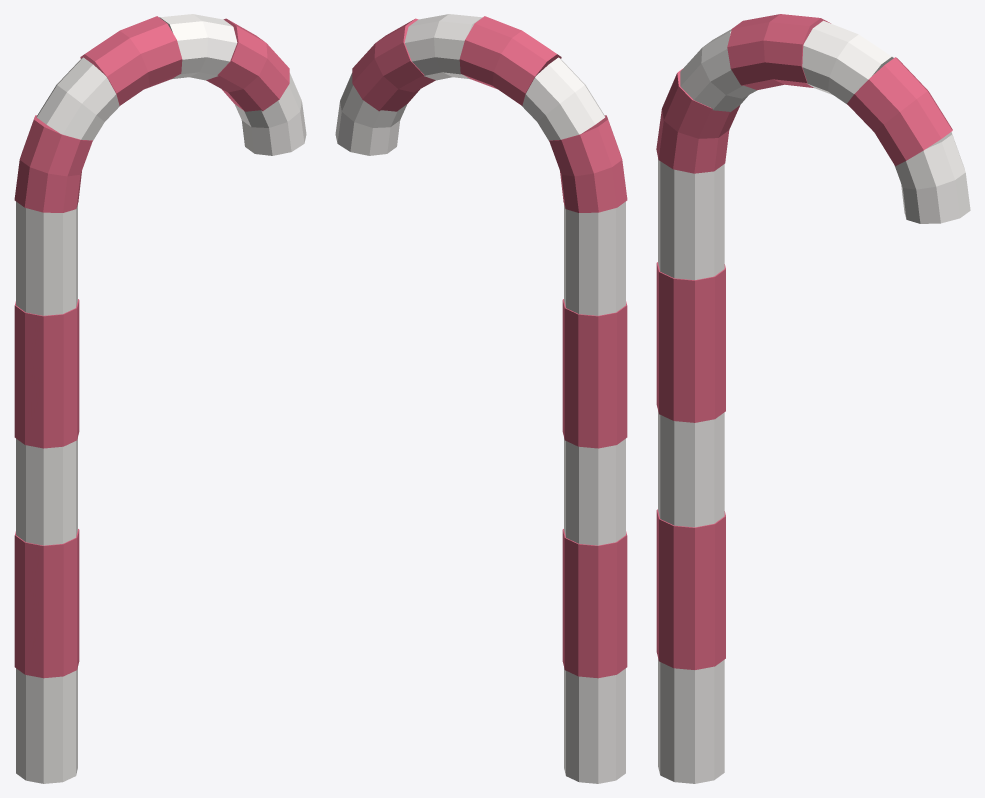
The model's file is HOB_CandyCane_S.fbx.
3 renders of one model, left to right at view 1: azimuth 30°, elevation 25°; view 2: azimuth 150°, elevation 25°; view 3: azimuth 330°, elevation 25°, orthographic. The views are drawn at different scales.
Parts seen in each view (by area): view 1: HOB_CandyCane_S; view 2: HOB_CandyCane_S; view 3: HOB_CandyCane_S.
Boxes of the visible parts, bbox=[...] form: HOB_CandyCane_S: bbox=[14, 14, 306, 783]; HOB_CandyCane_S: bbox=[335, 14, 627, 783]; HOB_CandyCane_S: bbox=[656, 14, 970, 783].
Bounding box in the file's own units: 61.67 × 151 × 12.48.
